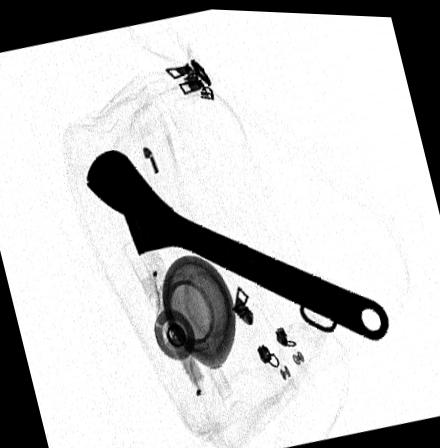Wrench: (85, 147, 387, 339)
